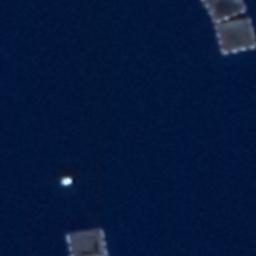square_cover: (209, 13, 256, 57), (60, 224, 110, 256), (195, 1, 250, 23)
